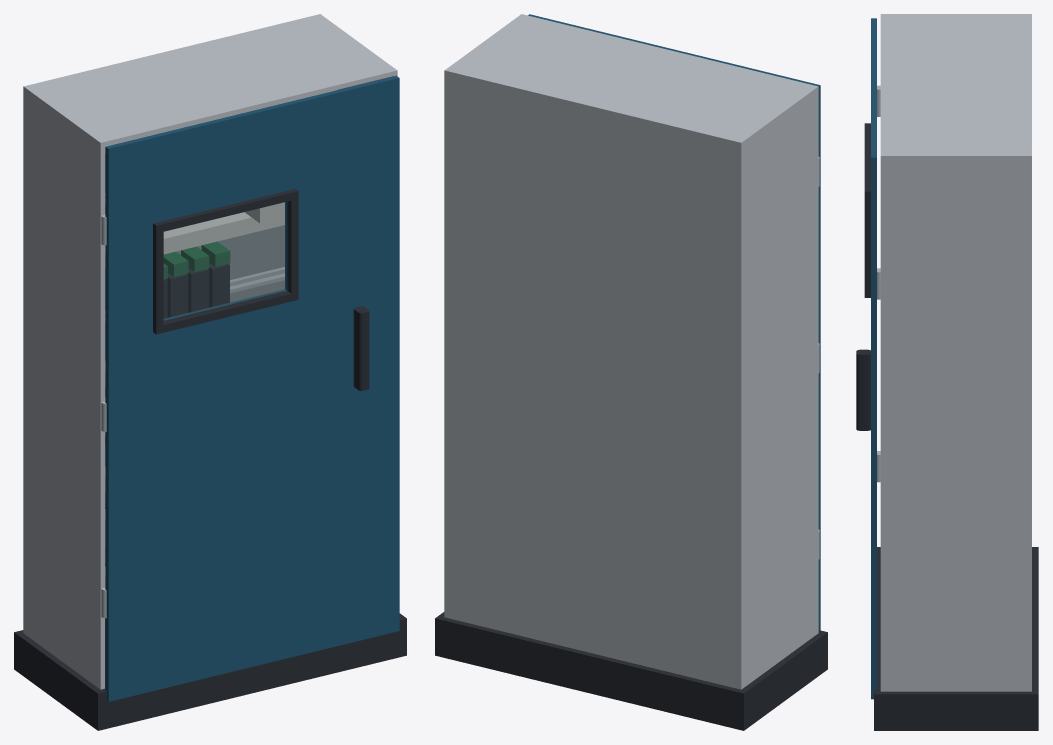
3 renders of one model, left to right at view 1: azimuth 30°, elevation 25°; view 2: azimuth 150°, elevation 25°; view 3: azimuth 270°, elevation 25°, orthographic. The views are drawn at different scales.
Visible parts, largest first — view 1: Front_door_panel, Sheet_steel_enclosure, Raised_base_plinth, Inspection_window_glazing, Window_bezel, Internal_mounting_plate, PLC_controller_modules, Cable_duct_set, Controller_terminal_connectors, Door_latch_handle, DIN_rail_3; view 2: Sheet_steel_enclosure, Raised_base_plinth, Front_door_panel; view 3: Sheet_steel_enclosure, Raised_base_plinth, Front_door_panel, Window_bezel, Door_latch_handle, Door_hinge_set.
Boxes of the visible parts, bbox=[...] form: Front_door_panel: bbox=[105, 75, 399, 701]; Sheet_steel_enclosure: bbox=[23, 14, 397, 689]; Raised_base_plinth: bbox=[14, 613, 406, 730]; Inspection_window_glazing: bbox=[164, 202, 286, 319]; Window_bezel: bbox=[153, 189, 298, 334]; Internal_mounting_plate: bbox=[105, 154, 284, 562]; PLC_controller_modules: bbox=[163, 263, 229, 318]; Cable_duct_set: bbox=[105, 90, 336, 585]; Controller_terminal_connectors: bbox=[163, 241, 230, 279]; Door_latch_handle: bbox=[353, 306, 369, 390]; DIN_rail_3: bbox=[105, 267, 284, 323]; Sheet_steel_enclosure: bbox=[444, 14, 818, 689]; Raised_base_plinth: bbox=[435, 612, 827, 730]; Front_door_panel: bbox=[528, 14, 820, 630]; Sheet_steel_enclosure: bbox=[880, 14, 1031, 691]; Raised_base_plinth: bbox=[874, 547, 1038, 730]; Front_door_panel: bbox=[871, 18, 876, 699]; Window_bezel: bbox=[864, 123, 870, 297]; Door_latch_handle: bbox=[856, 349, 870, 430]; Door_hinge_set: bbox=[877, 85, 880, 482].
Size of the model in its own units: 1.04 by 1.88 by 0.5425.
